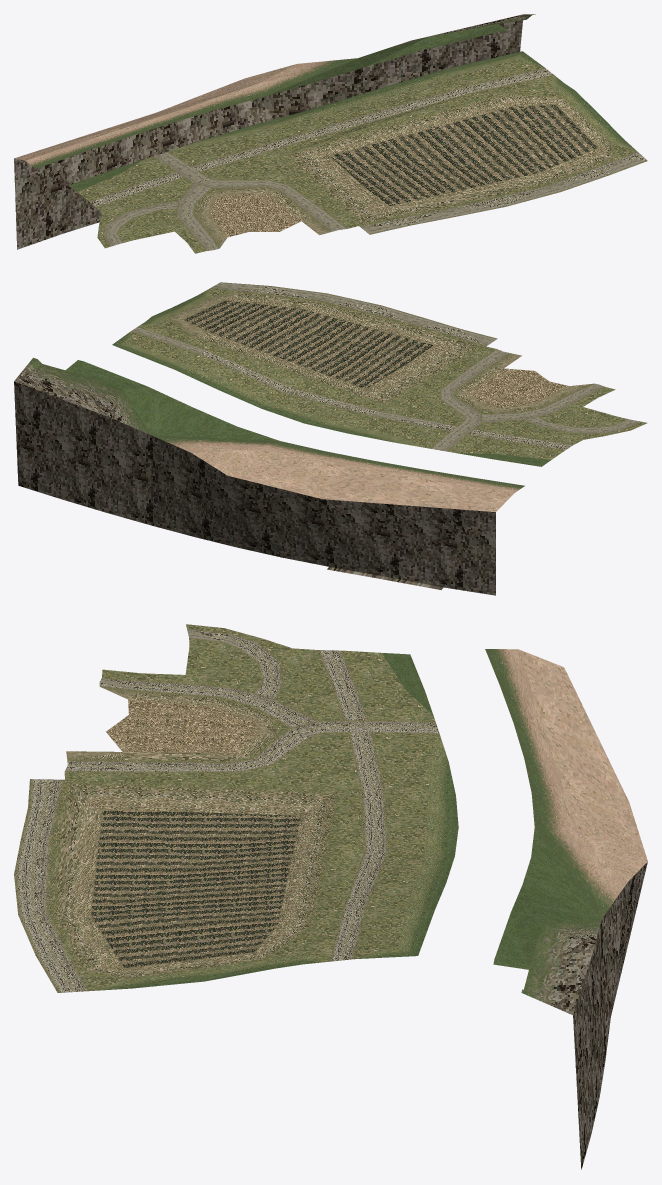
Rendered from lodce_farmland03.obj.
The picture shows the model from 3 angles, top to bottom: view 1: azimuth 30°, elevation 25°; view 2: azimuth 150°, elevation 25°; view 3: azimuth 270°, elevation 25°; orthographic projection. The views are drawn at different scales.
Visible parts, largest first — view 1: LODCE_farmland03; view 2: LODCE_farmland03; view 3: LODCE_farmland03.
Boxes of the visible parts, <box> form: LODCE_farmland03: <box>14,14,647,253</box>; LODCE_farmland03: <box>14,282,647,595</box>; LODCE_farmland03: <box>14,624,647,1169</box>.
Size of the model in its own units: 274 by 58.42 by 184.
11 materials, 11 textured.
